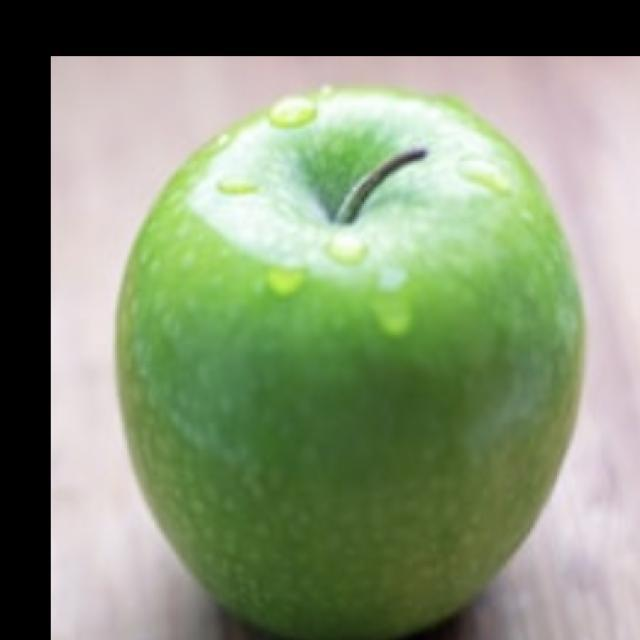Apple: (113, 83, 587, 639)
